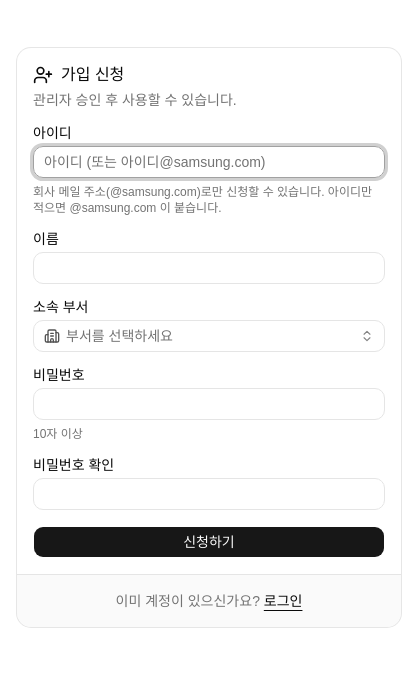
Test case: 회사 메일로만 › 아이디만 쳐도 통과한다 — 서버가 도메인을 붙인다
Type "hong" into the field labelled "아이디" at (209, 162), box [33, 146, 385, 178]
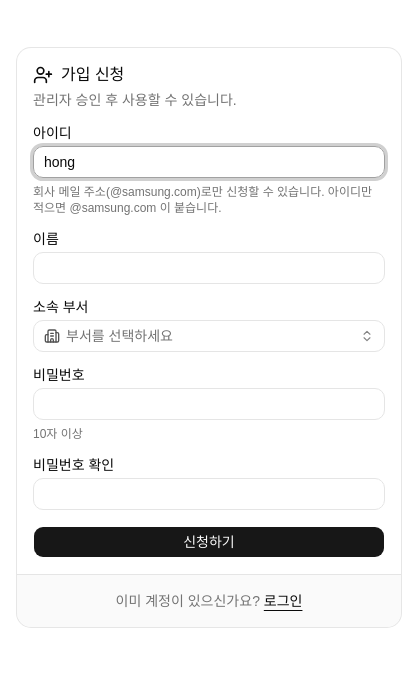
Type "홍길동" into the field labelled "이름" at (209, 268), box [33, 252, 385, 284]
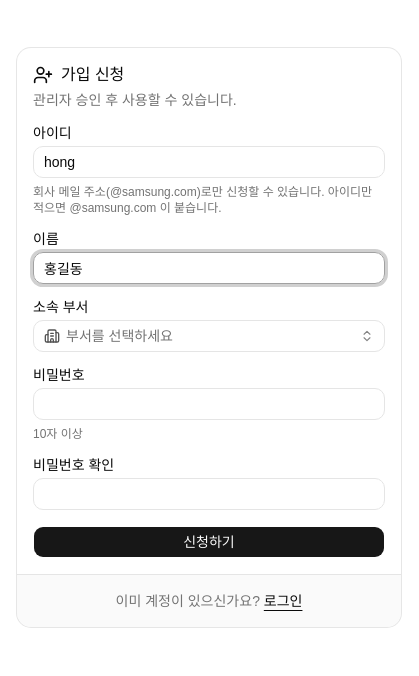
Type "applicant-password-1" into the password field labelled "비밀번호" at (209, 404), box [33, 388, 385, 420]
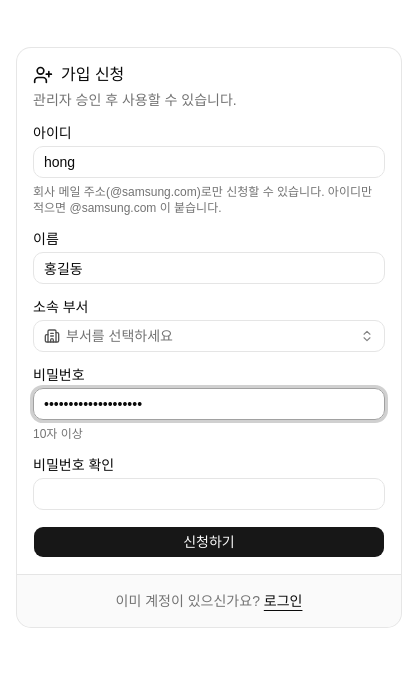
Type "applicant-password-1" into the password field labelled "비밀번호 확인" at (209, 494), box [33, 478, 385, 510]
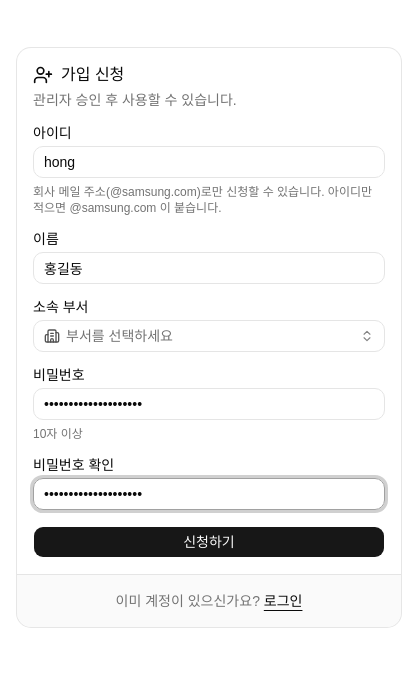
Click the button "신청하기" at (209, 542), box [33, 526, 385, 558]
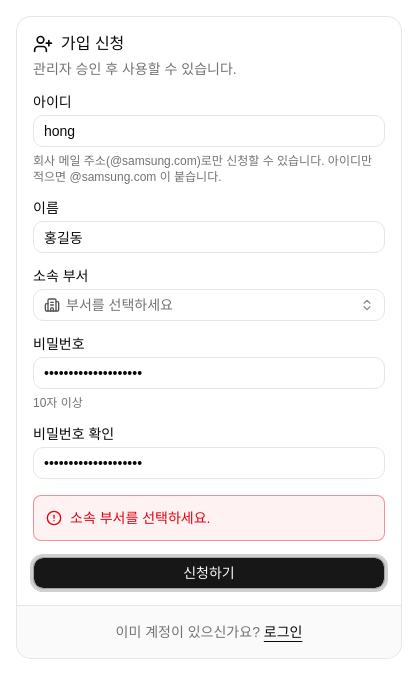
Now the text "소속 부서를 선택하세요." is shown, box [70, 508, 210, 528]
